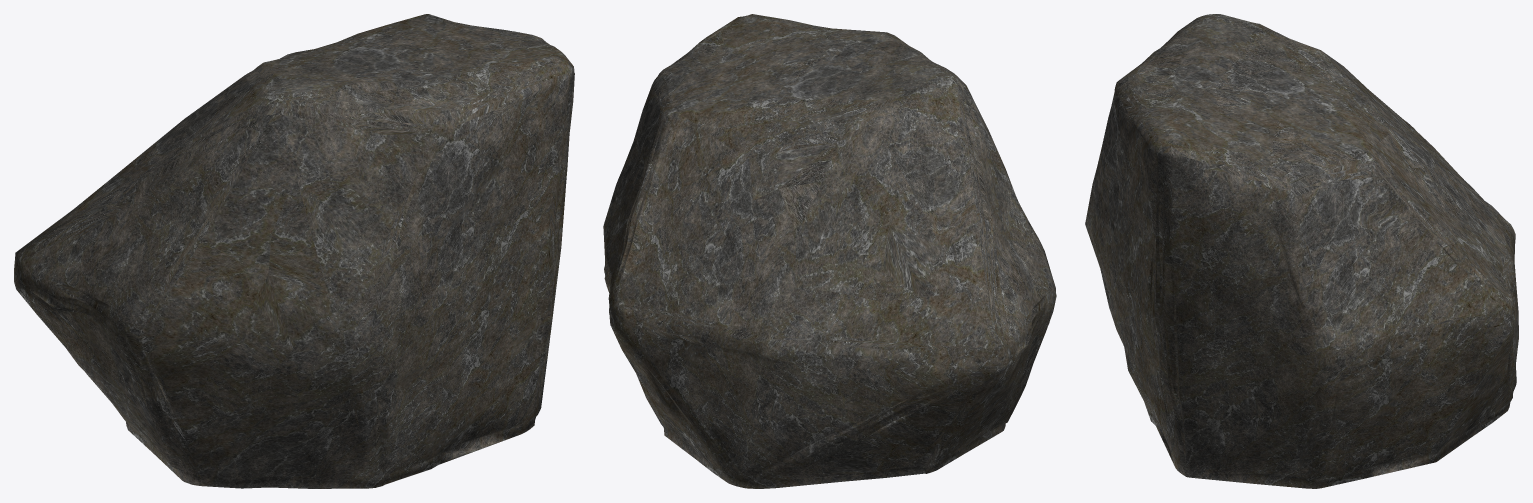
File: granite_boulder_LOD0.fbx
The picture shows the model from 3 angles, left to right: view 1: azimuth 30°, elevation 25°; view 2: azimuth 150°, elevation 25°; view 3: azimuth 270°, elevation 25°; orthographic projection. The views are drawn at different scales.
Visible parts, largest first — view 1: granite_boulder_LOD0; view 2: granite_boulder_LOD0; view 3: granite_boulder_LOD0.
Part boxes in pixels (box(x1,y1,x2,y2)): granite_boulder_LOD0: box(14, 14, 574, 488); granite_boulder_LOD0: box(603, 14, 1056, 488); granite_boulder_LOD0: box(1085, 14, 1518, 488).
Size of the model in its own units: 310 by 225 by 250.
